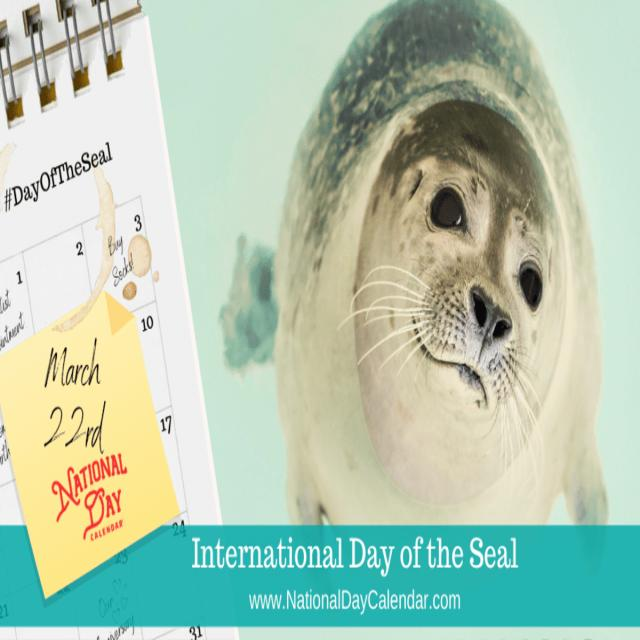WaterDog: (280, 0, 602, 530)
